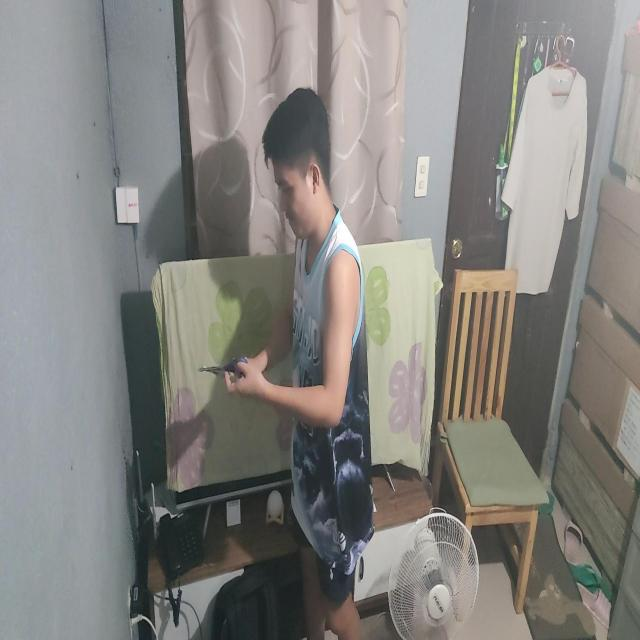scissor: (197, 356, 250, 385)
